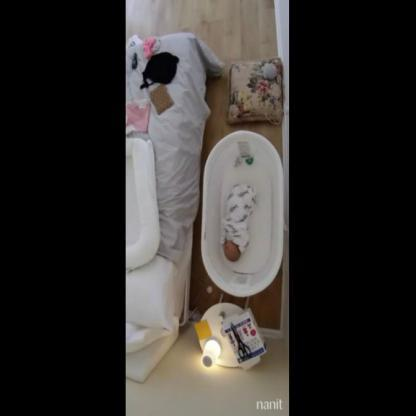baby: (220, 184, 257, 263)
